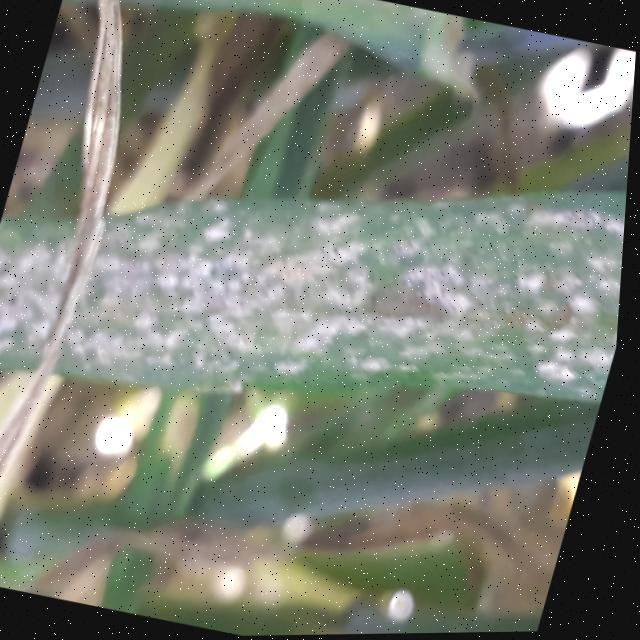powder_mildew: (0, 63, 636, 502)
